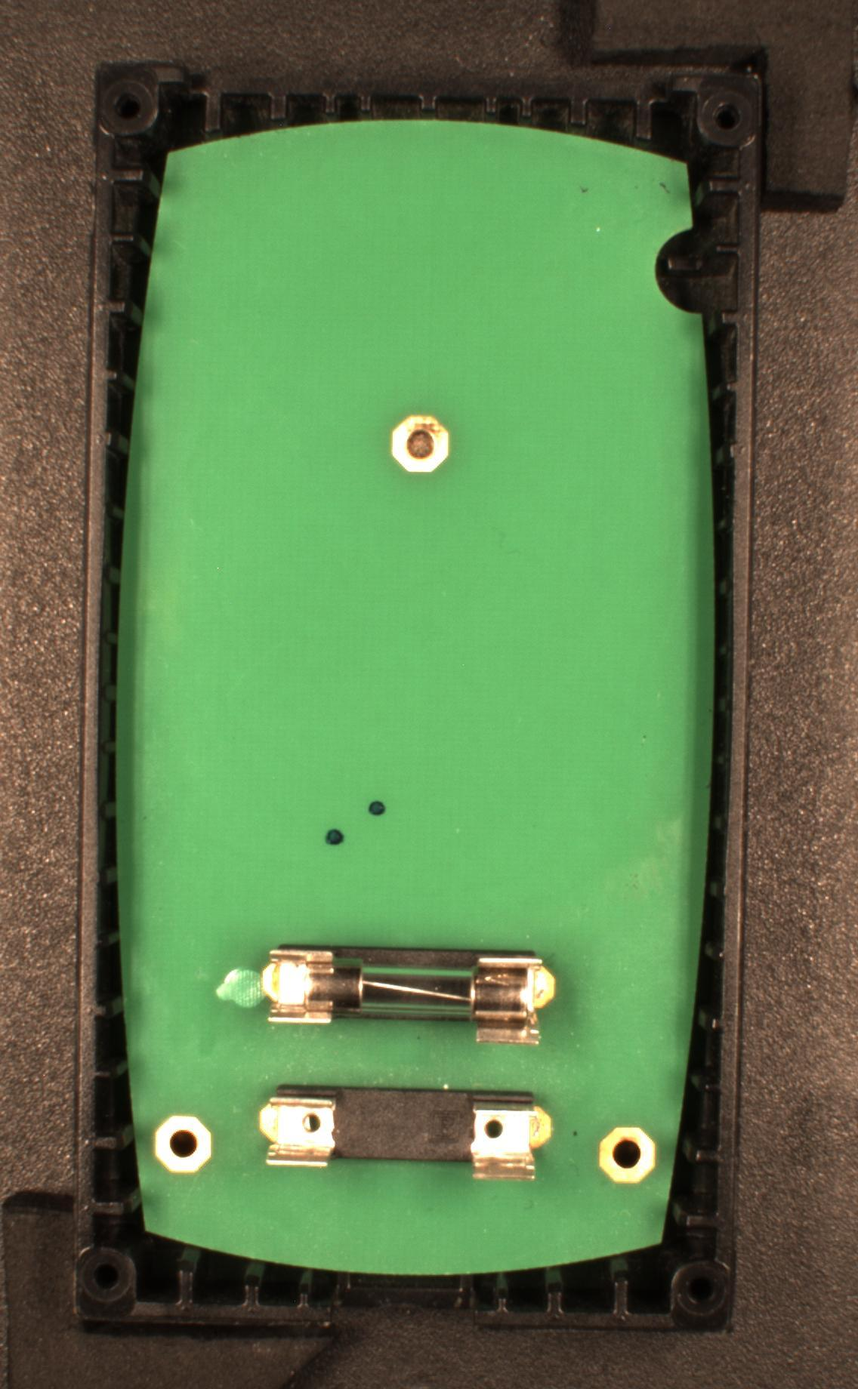Nepostojanje osiguraca: (255, 1083, 556, 1182)
Tockasto Ostecenje: (323, 826, 345, 848), (368, 800, 387, 817)
